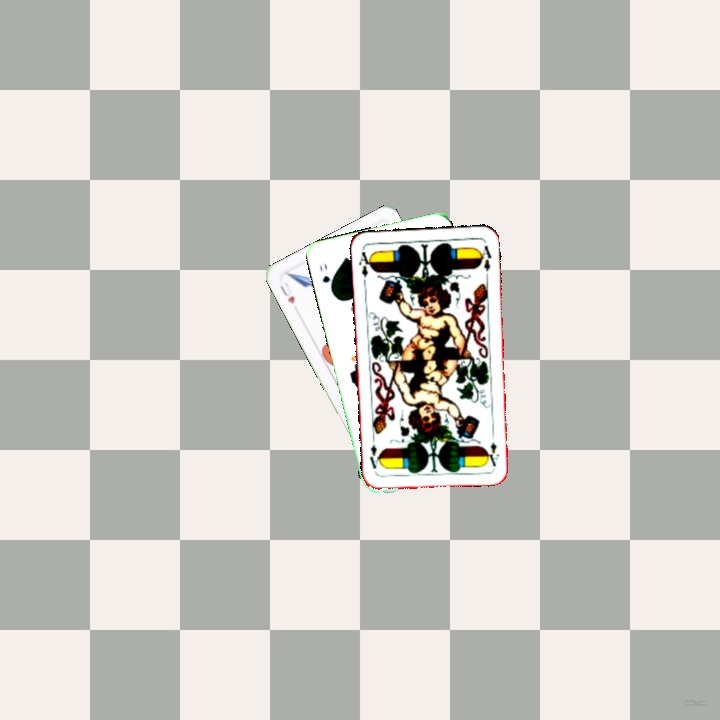EA: (355, 246, 375, 279), (485, 438, 502, 469)
GO: (315, 259, 336, 294)
HU: (276, 278, 297, 307)
